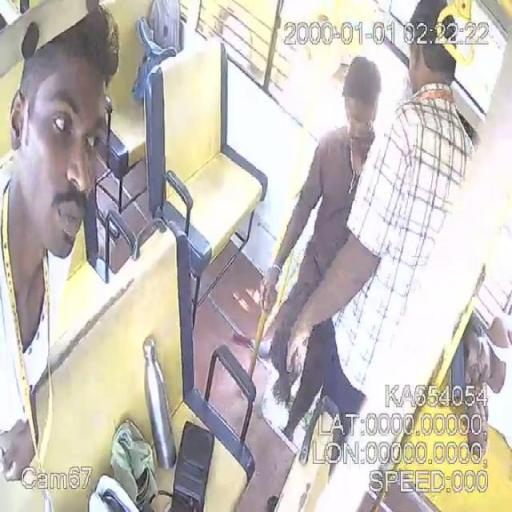persona: (276, 1, 482, 455), (1, 1, 121, 485), (258, 54, 384, 445)
